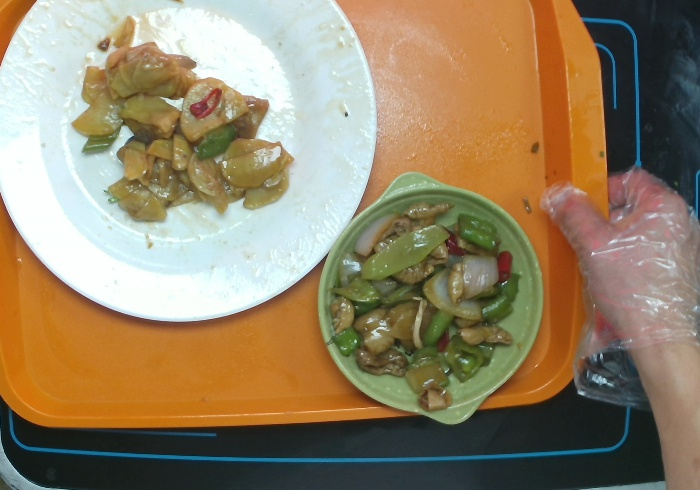NLDX-Da_Yuan_Pan: (1, 5, 379, 331)
NLDX-Lv_Hua_Shuang_Er_Die: (316, 170, 544, 426)
